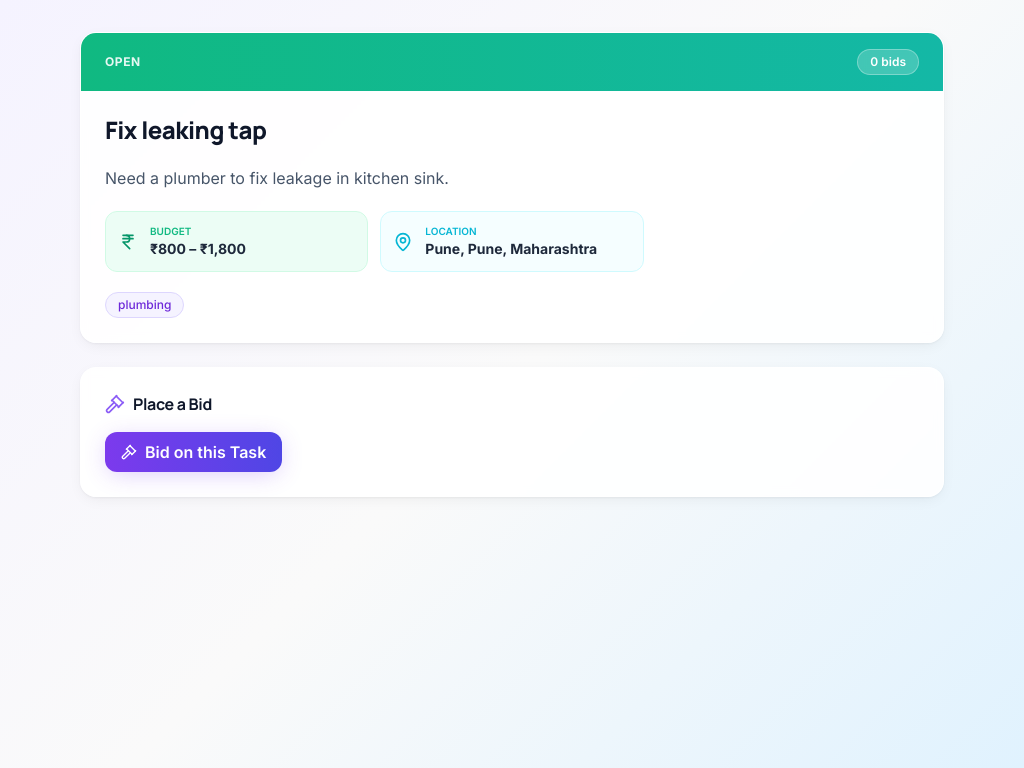
TaskDetailPage bidding integration › allows a finisher to place a bid and shows confirmation state
Click the button "Bid on this Task" at (194, 452), box [105,432,282,472]
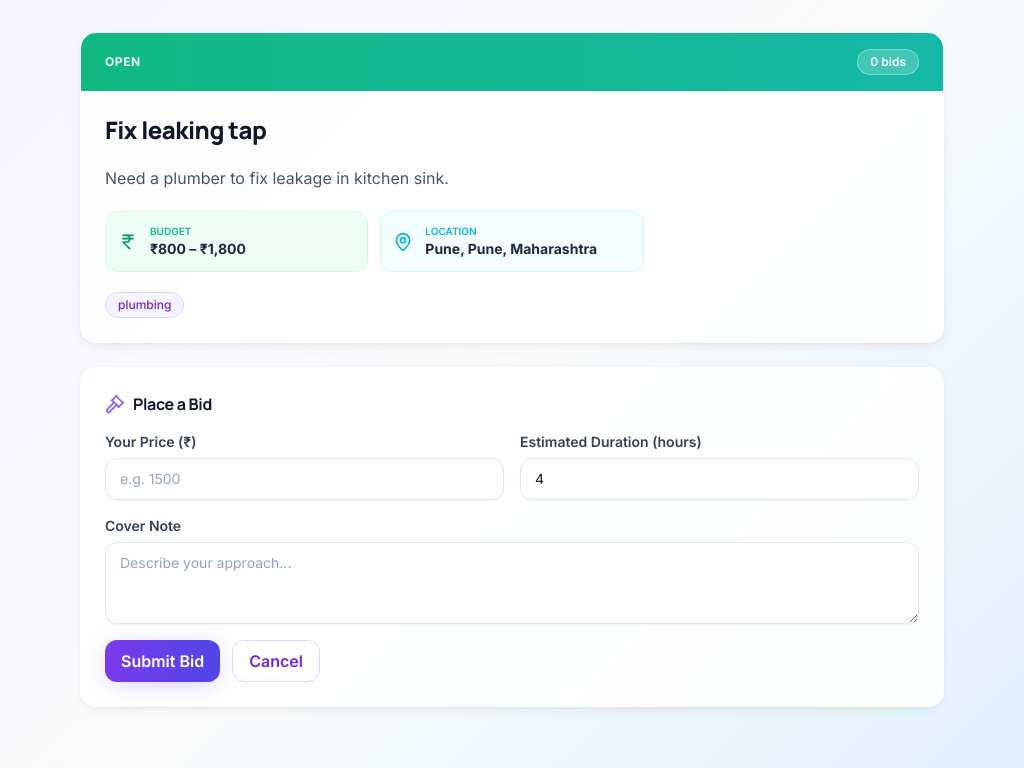
Type "Can complete this quickly and cleanly." into the text box with placeholder "Describe your approach..." at (512, 583), box [105,542,919,624]
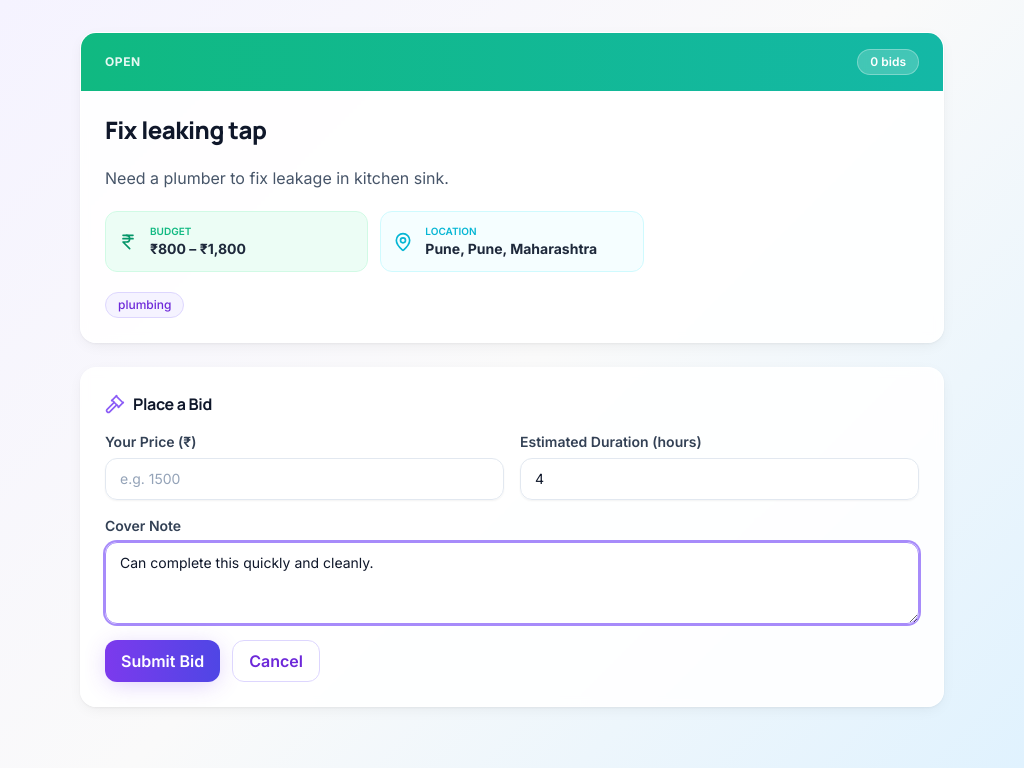
Type "1500" into the number field with placeholder "e.g. 1500" at (304, 479), box [105,458,504,500]
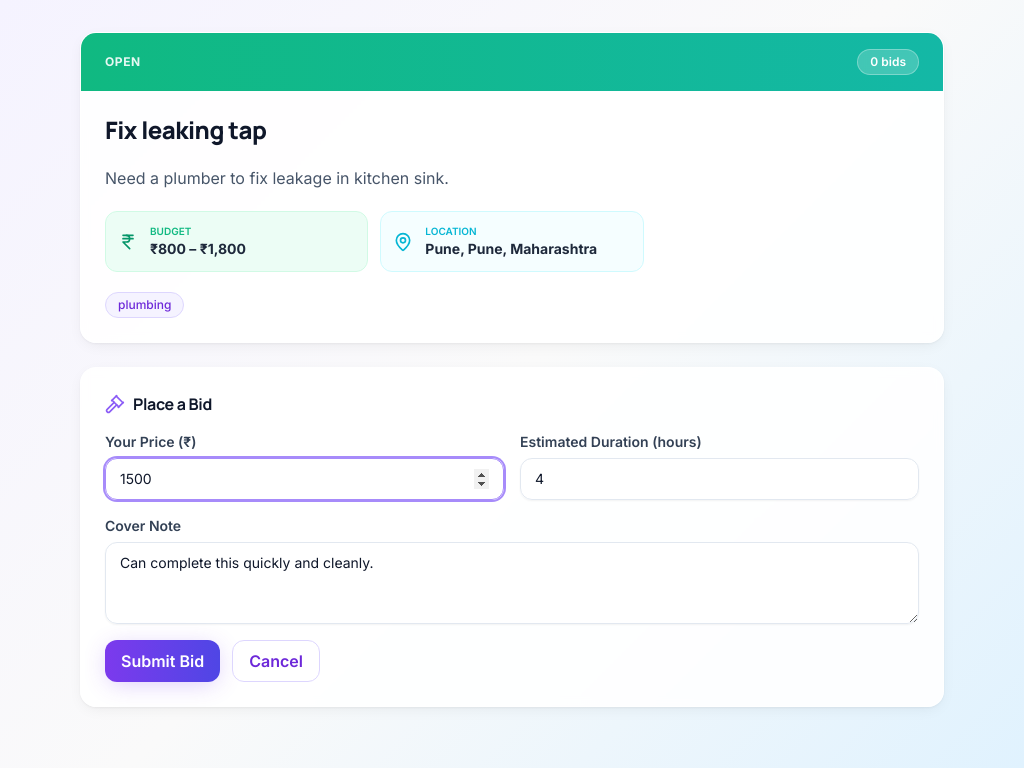
Replace the text in the number field below "Estimated Duration (hours)" with "5" at (720, 479), box [520,458,919,500]
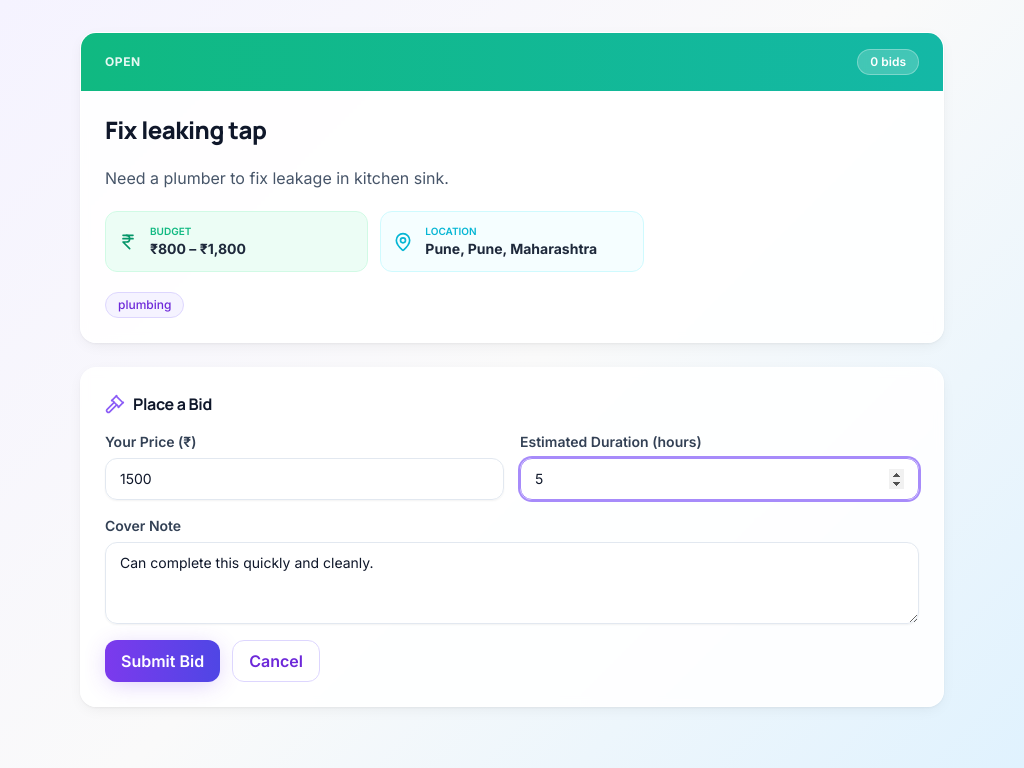
Click the button "Submit Bid" at (163, 661), box [105,640,220,682]
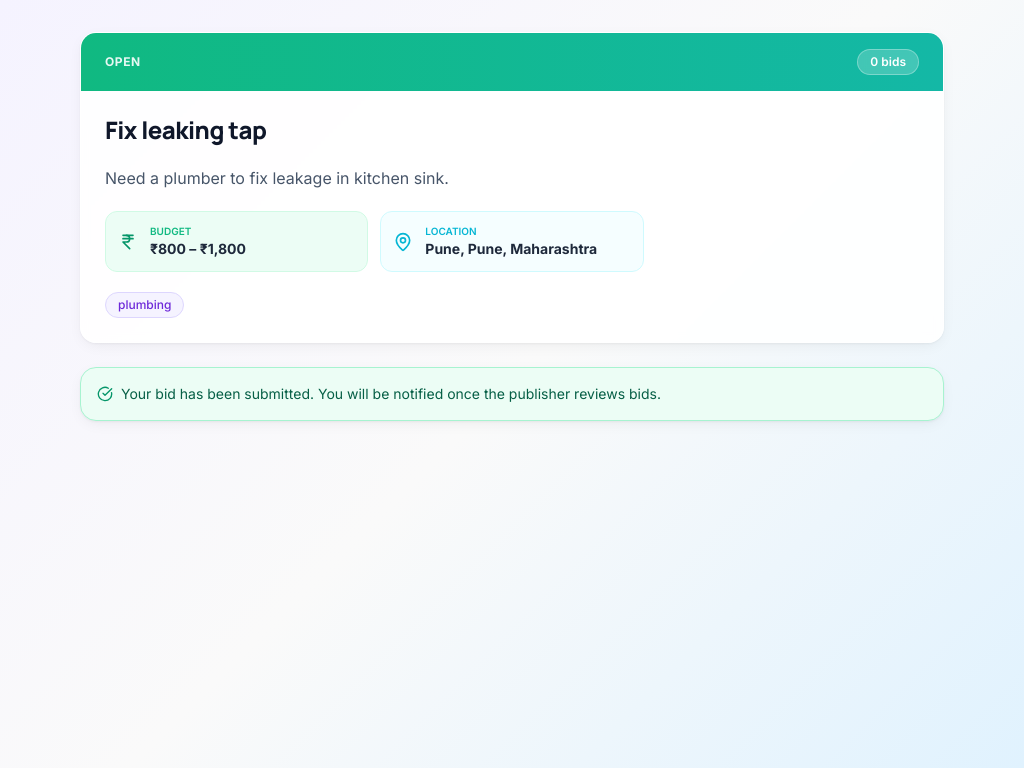
expect the text "Your bid has been submitted. You will be notified once the publisher reviews bids." is shown: met, box [121,385,661,402]
